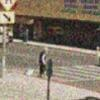crosswalks: (53, 66, 99, 82)
